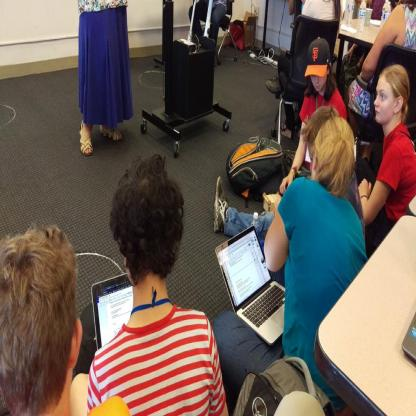board: (214, 220, 284, 337), (92, 273, 132, 349), (402, 312, 416, 363), (357, 0, 366, 34), (380, 0, 388, 32), (383, 0, 391, 29), (346, 0, 354, 28)
